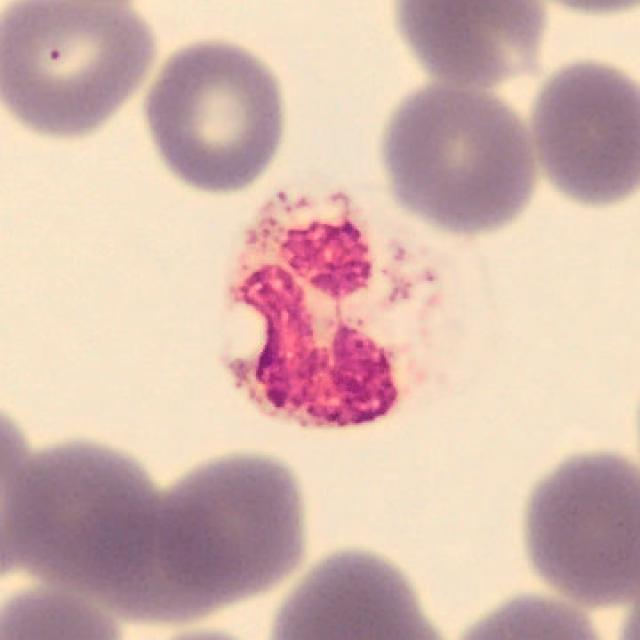Neutrofilo segmentado: (219, 185, 466, 428)
